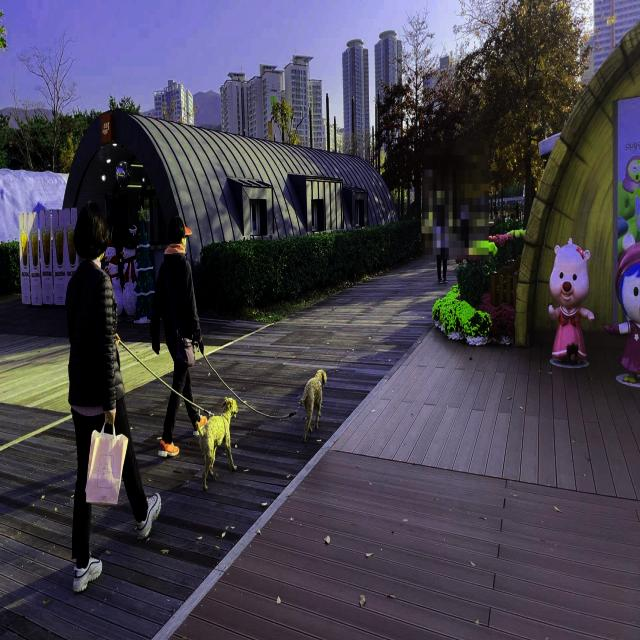Leashed_Dog: (103, 330, 239, 492), (178, 304, 328, 447)
